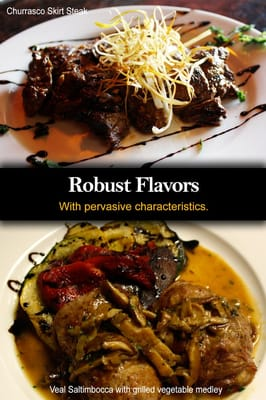burger: (42, 104, 266, 169)
